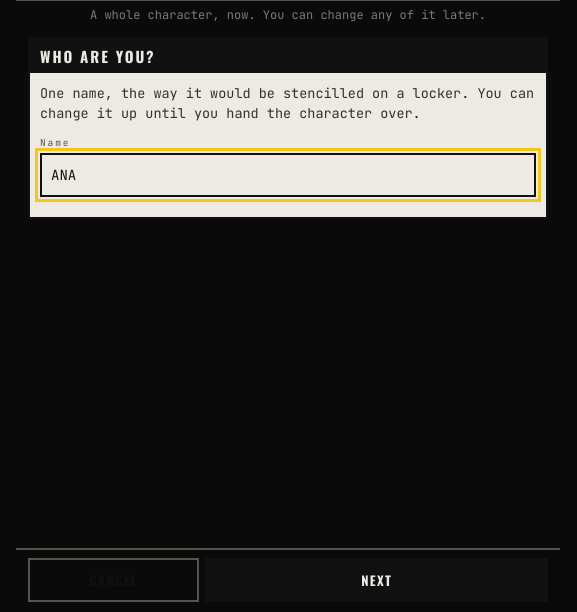
Test: building a character on a phone › will not pass the skill step with points unspent
This screenshot has width=577, height=612.
Click the button "Next".
click(377, 580)  # box [205, 558, 548, 602]
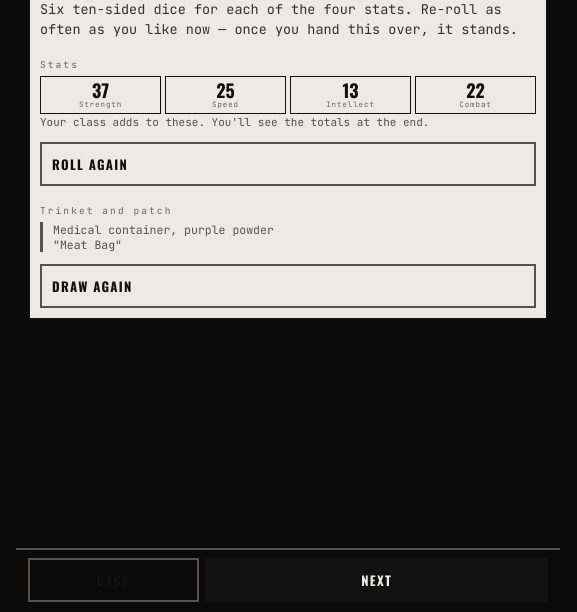
Click the button "Next".
click(377, 580)  # box [205, 558, 548, 602]
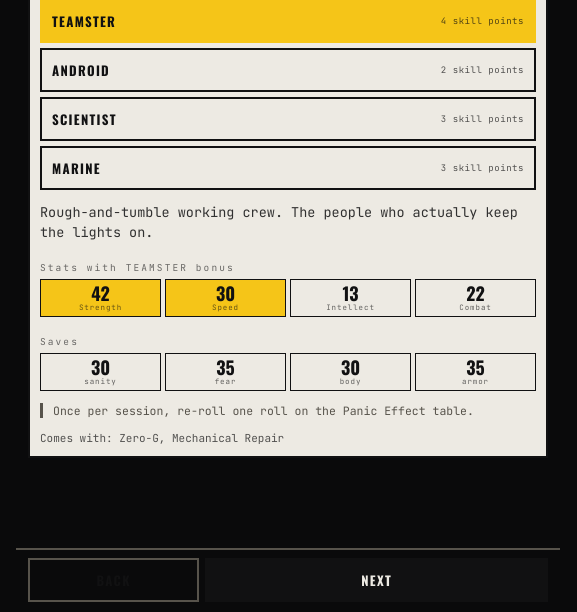
Click the button "Next".
click(377, 580)  # box [205, 558, 548, 602]
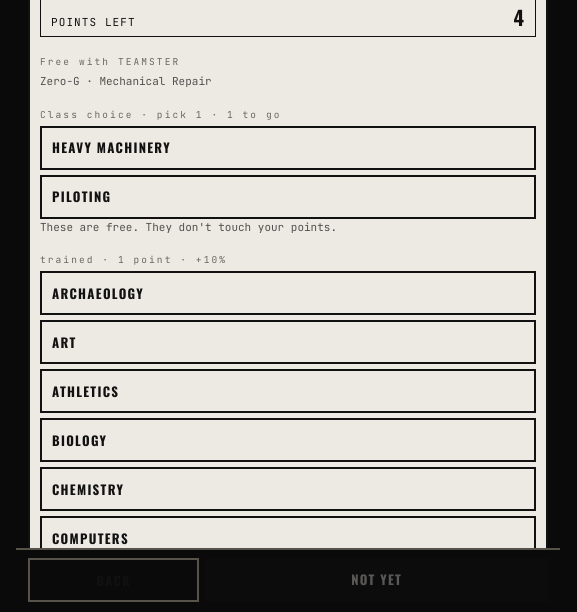
Result: the button "Next" is disabled at [205, 558, 548, 602]
Click the button "Piloting".
click(82, 196)  # box [40, 174, 536, 218]
(page scrolled)
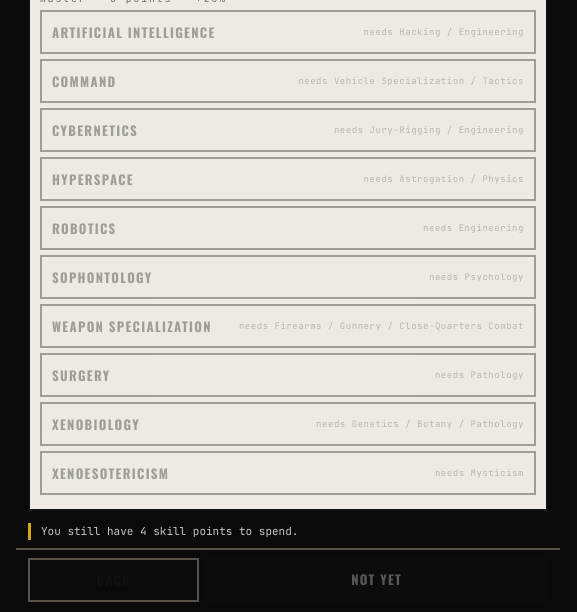
Result: the text "You still have 4 skill points to spend." is shown at [28, 523, 548, 540]
